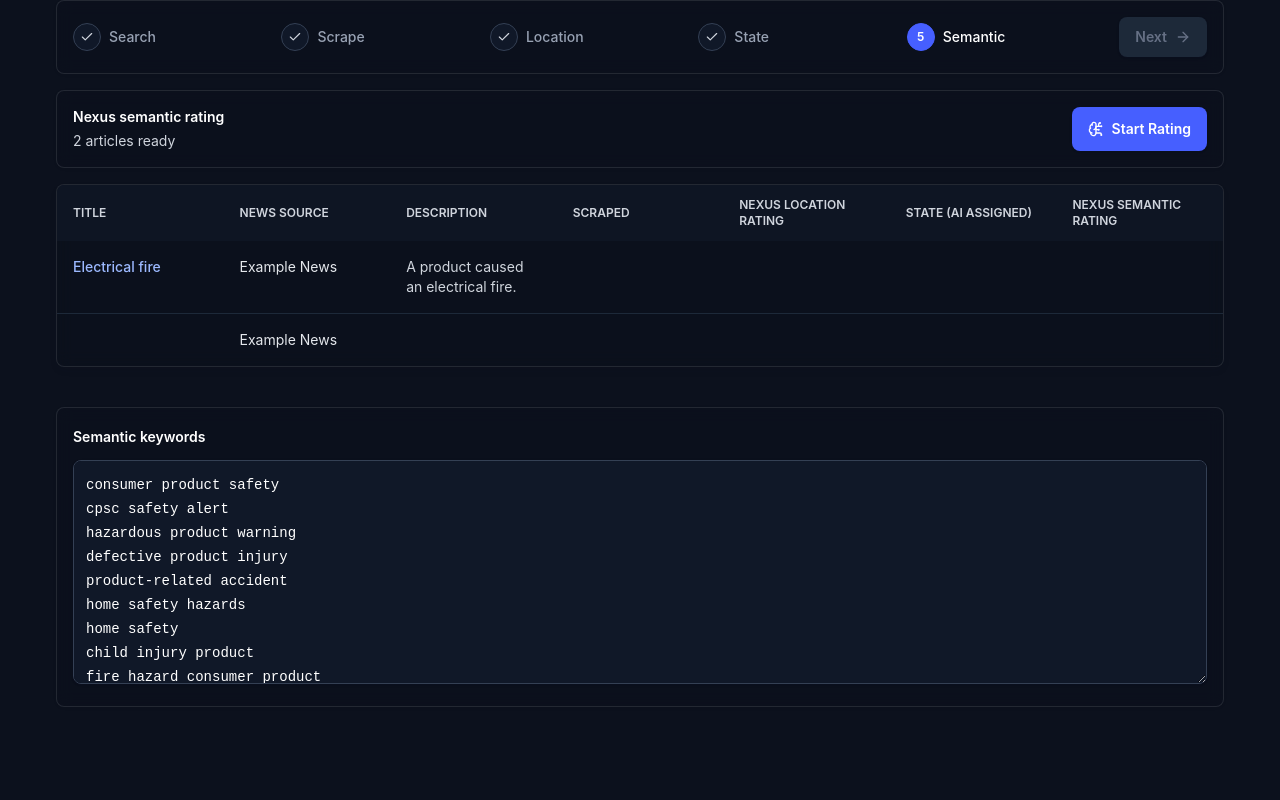
SemanticBar › shows a generic error when the accepted semantic job fails
What coordinates should you click on to do the following:
click the button "Start Rating"
I would click on:
 (1139, 129)
Its box is x1=1072 y1=107 x2=1207 y2=151.
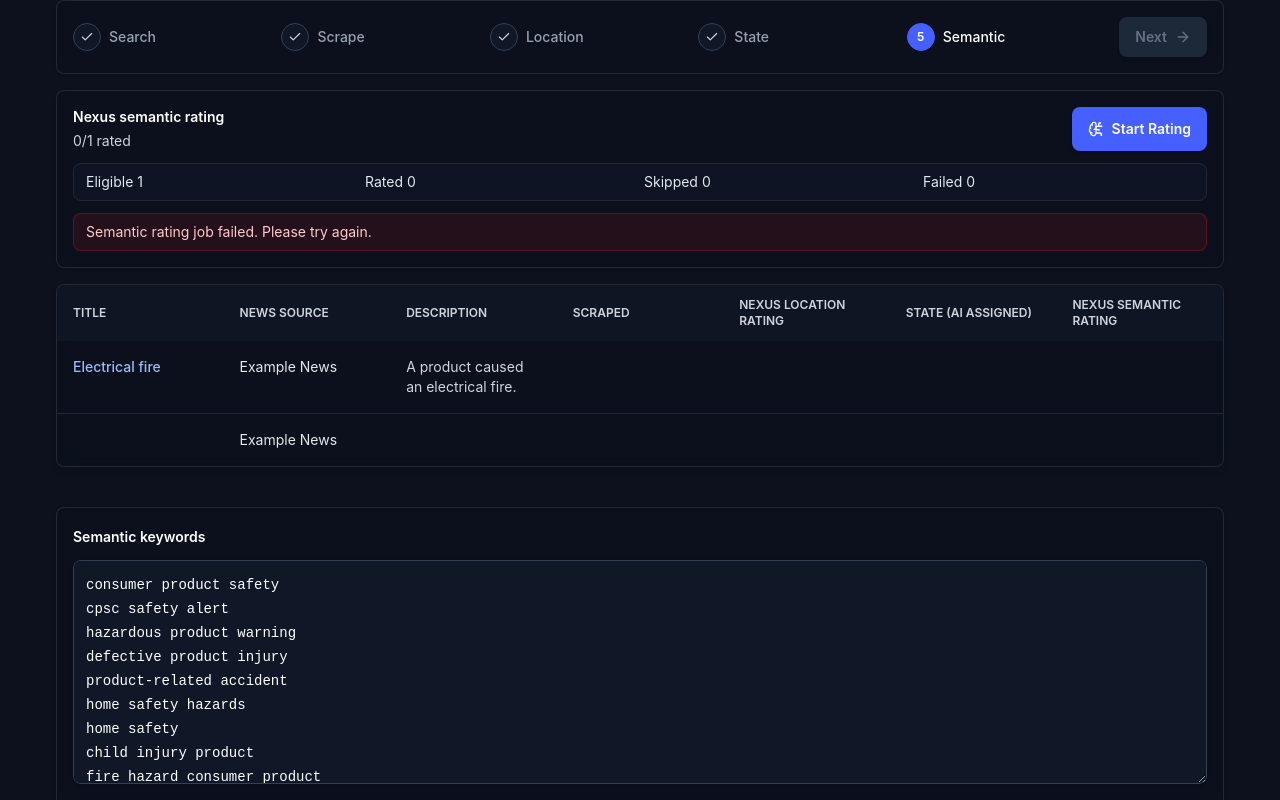
Expected: the message "Semantic rating job failed. Please try again." is shown, x1=73 y1=213 x2=1207 y2=251
